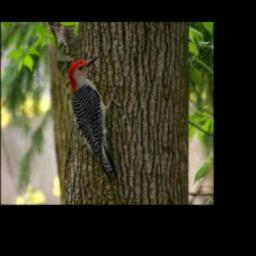Woodpecker: (68, 55, 121, 177)
